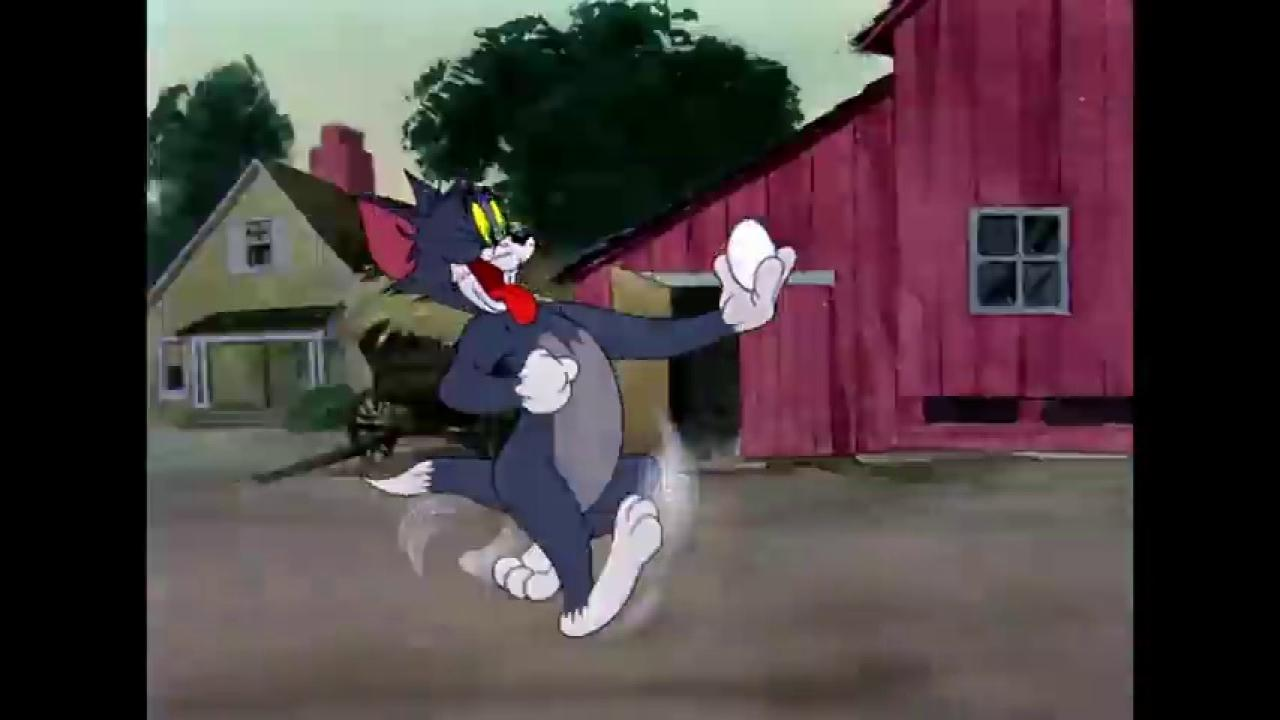Tom: (353, 165, 797, 639)
